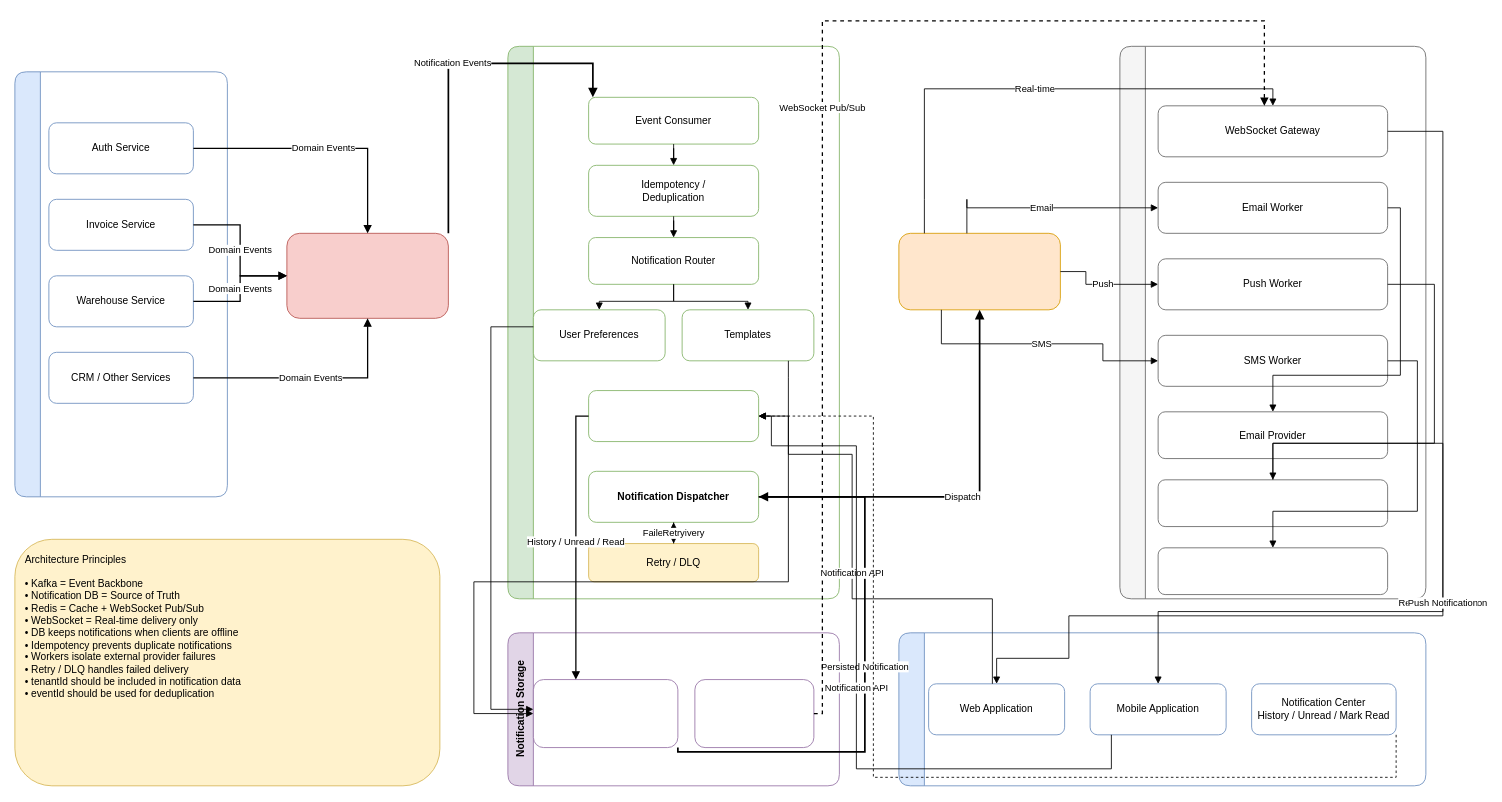
The diagram is 1502 pixels wide and 802 high, and some of its shapes have lost their labels. Each missing label, with the box of its shape:
Business Services: (14, 71, 227, 497)
Channel Dispatcher: (898, 232, 1060, 310)
Clients: (898, 632, 1426, 786)
Delivery Channels: (1119, 45, 1426, 599)
Firebase Cloud Messaging: (1157, 479, 1388, 527)
Kafka Event Bus: (286, 232, 448, 318)
Notification API REST: (588, 390, 759, 442)
Notification Service: (507, 45, 839, 599)
PostgreSQL Notification DB (Source of Truth): (533, 679, 678, 748)
Redis Cache / PubSub: (694, 679, 814, 748)
SMS Provider: (1157, 547, 1388, 595)
